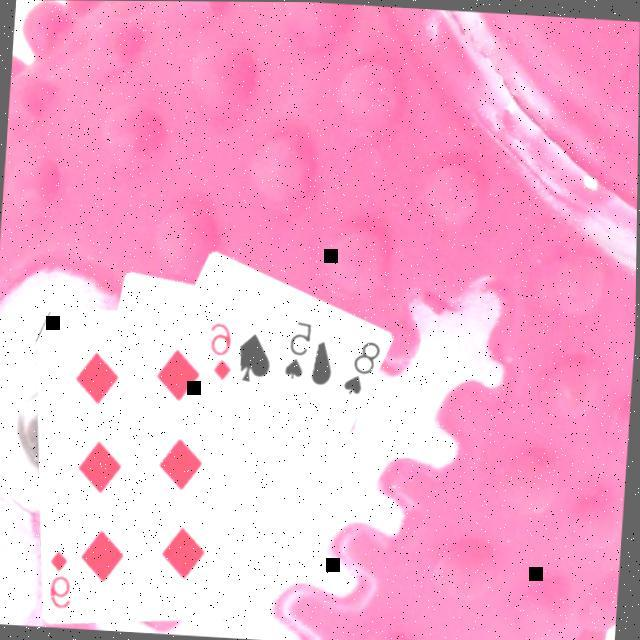5S: (282, 315, 316, 380)
6D: (44, 544, 78, 609), (205, 316, 238, 381)
8S: (340, 334, 386, 397)
